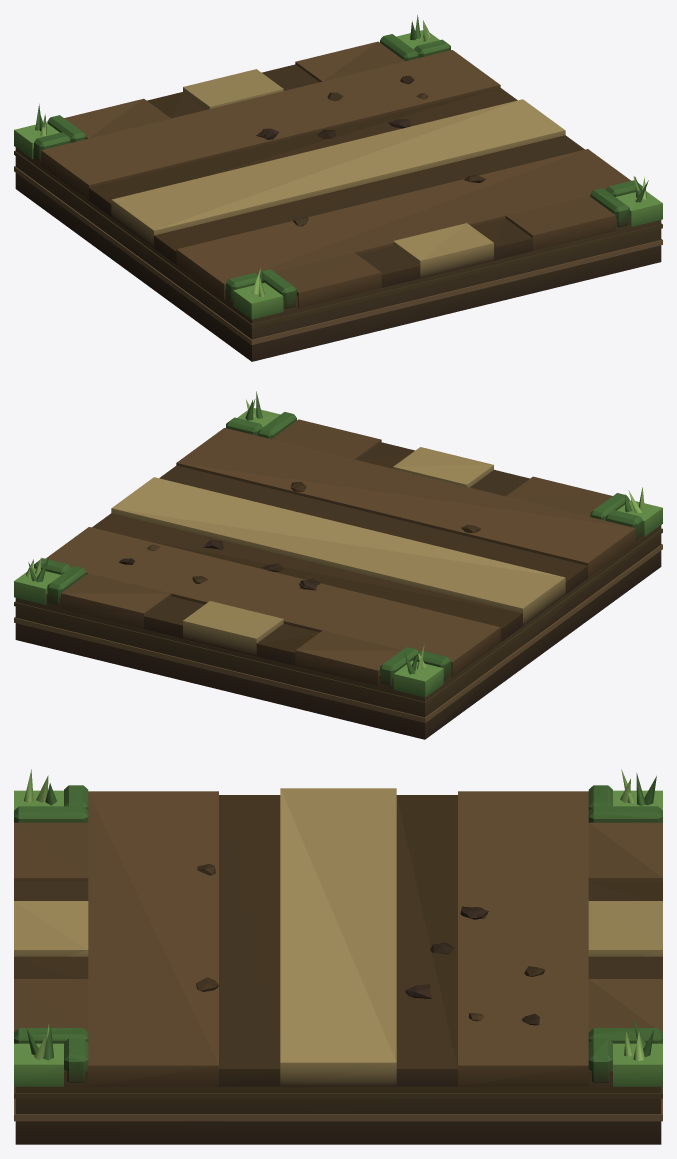
The model's file is track-crossroads.glb.
3 views of the same model, one above another, from view 1: azimuth 30°, elevation 25°; view 2: azimuth 150°, elevation 25°; view 3: azimuth 270°, elevation 25° (orthographic). The views are drawn at different scales.
Visible parts, largest first — view 1: track_crossroads; view 2: track_crossroads; view 3: track_crossroads.
Boxes of the visible parts, bbox=[...] form: track_crossroads: bbox=[14, 15, 662, 361]; track_crossroads: bbox=[14, 391, 662, 739]; track_crossroads: bbox=[14, 769, 662, 1144].
Size of the model in its own units: 4.02 by 0.7734 by 4.02.
